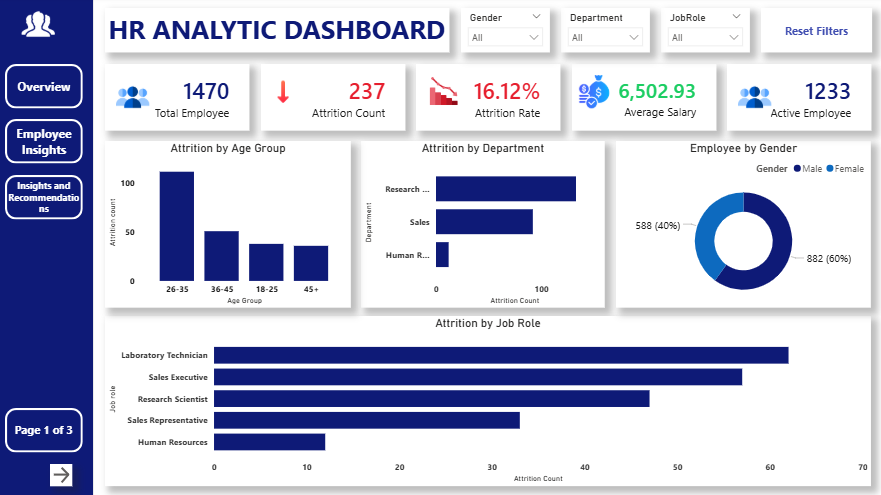

Layout of this report page (visuals, bound fields, positions):
{"tool":"powerbi","page":{"name":"overview","canvas":[1280,720],"ordinal":0},"visuals":[{"type":"shape","box":[0,0,144,720],"z":0,"group":"g1"},{"type":"textbox","box":[159.8,15.8,496.8,64.8],"z":0},{"type":"cardVisual","fields":{"Data":["hr ibm.total employe"]},"box":[160,96,208,96],"z":1000},{"type":"actionButton","box":[80,672,32,32],"z":1000,"group":"g1"},{"type":"image","box":[32,16,64,48],"z":2000,"group":"g1"},{"type":"cardVisual","fields":{"Data":["hr ibm.atrrition count"]},"box":[384,96,208,96],"z":2000},{"type":"shape","box":[16,96,112,64],"z":3000,"group":"g1"},{"type":"cardVisual","fields":{"Data":["hr ibm.attriton rate"]},"box":[608,96,208,96],"z":3000},{"type":"cardVisual","fields":{"Data":["hr ibm.average salary"]},"box":[832,96,208,96],"z":4000},{"type":"shape","box":[16,176,112,64],"z":4000,"group":"g1"},{"type":"barChart","title":"Attrition by Department","fields":{"Y":["hr ibm.atrrition count"],"Category":["hr ibm.Department"]},"box":[528.5,207.4,351.4,240.5],"z":5000},{"type":"shape","box":[16,256,112,64],"z":5000,"group":"g1"},{"type":"clusteredBarChart","title":"Attrition by Job Role","fields":{"Category":["hr ibm.JobRole"],"Y":["hr ibm.atrrition count"]},"box":[159.8,459.4,1103,244.8],"z":6000},{"type":"shape","box":[16,592,112,64],"z":6000,"group":"g1"},{"type":"donutChart","title":"Employee by Gender","fields":{"Category":["hr ibm.Gender"],"Y":["hr ibm.total employe"]},"box":[895.7,207.4,367.2,240.5],"z":7000},{"type":"clusteredColumnChart","title":"Attrition by Age Group","fields":{"Y":["hr ibm.atrrition count"],"Category":["hr ibm.age group"]},"box":[159.8,207.4,354.2,240.5],"z":8000},{"type":"slicer","fields":{"Values":["hr ibm.JobRole"]},"box":[960,16,128,64],"z":9000},{"type":"slicer","fields":{"Values":["hr ibm.Department"]},"box":[816,16,128,64],"z":10000},{"type":"slicer","fields":{"Values":["hr ibm.Gender"]},"box":[672,16,128,64],"z":11000},{"type":"actionButton","box":[1104,16,160,64],"z":12000},{"type":"cardVisual","fields":{"Data":["hr ibm.active employee"]},"box":[1056,96,208,96],"z":13000},{"type":"image","box":[400,112,32,48],"z":14000},{"type":"image","box":[624,112,48,48],"z":15000},{"type":"image","box":[832,112,64,48],"z":16000},{"type":"image","box":[176,112,48,64],"z":17000},{"type":"image","box":[1072,112,48,64],"z":18000},{"type":"group","id":"g1","title":"Group 2","box":[0,0,144,720],"z":19002}]}

Visuals, with their boxes in screenshot pixels (x1, y1, x2, y2), scaled from the page's 1280x720 canvas onto the 881x495 screenshot:
shape: [0, 0, 99, 494]
textbox: [110, 11, 452, 55]
cardVisual - hr ibm.total employe: [110, 66, 253, 132]
actionButton: [55, 462, 77, 484]
image: [22, 11, 66, 44]
cardVisual - hr ibm.atrrition count: [264, 66, 407, 132]
shape: [11, 66, 88, 110]
cardVisual - hr ibm.attriton rate: [418, 66, 562, 132]
cardVisual - hr ibm.average salary: [573, 66, 716, 132]
shape: [11, 121, 88, 165]
"Attrition by Department" barChart: [364, 143, 606, 308]
shape: [11, 176, 88, 220]
"Attrition by Job Role" clusteredBarChart: [110, 316, 869, 484]
shape: [11, 407, 88, 451]
"Employee by Gender" donutChart: [616, 143, 869, 308]
"Attrition by Age Group" clusteredColumnChart: [110, 143, 354, 308]
slicer - hr ibm.JobRole: [661, 11, 749, 55]
slicer - hr ibm.Department: [562, 11, 650, 55]
slicer - hr ibm.Gender: [463, 11, 551, 55]
actionButton: [760, 11, 870, 55]
cardVisual - hr ibm.active employee: [727, 66, 870, 132]
image: [275, 77, 297, 110]
image: [429, 77, 463, 110]
image: [573, 77, 617, 110]
image: [121, 77, 154, 121]
image: [738, 77, 771, 121]
"Group 2" group: [0, 0, 99, 494]
